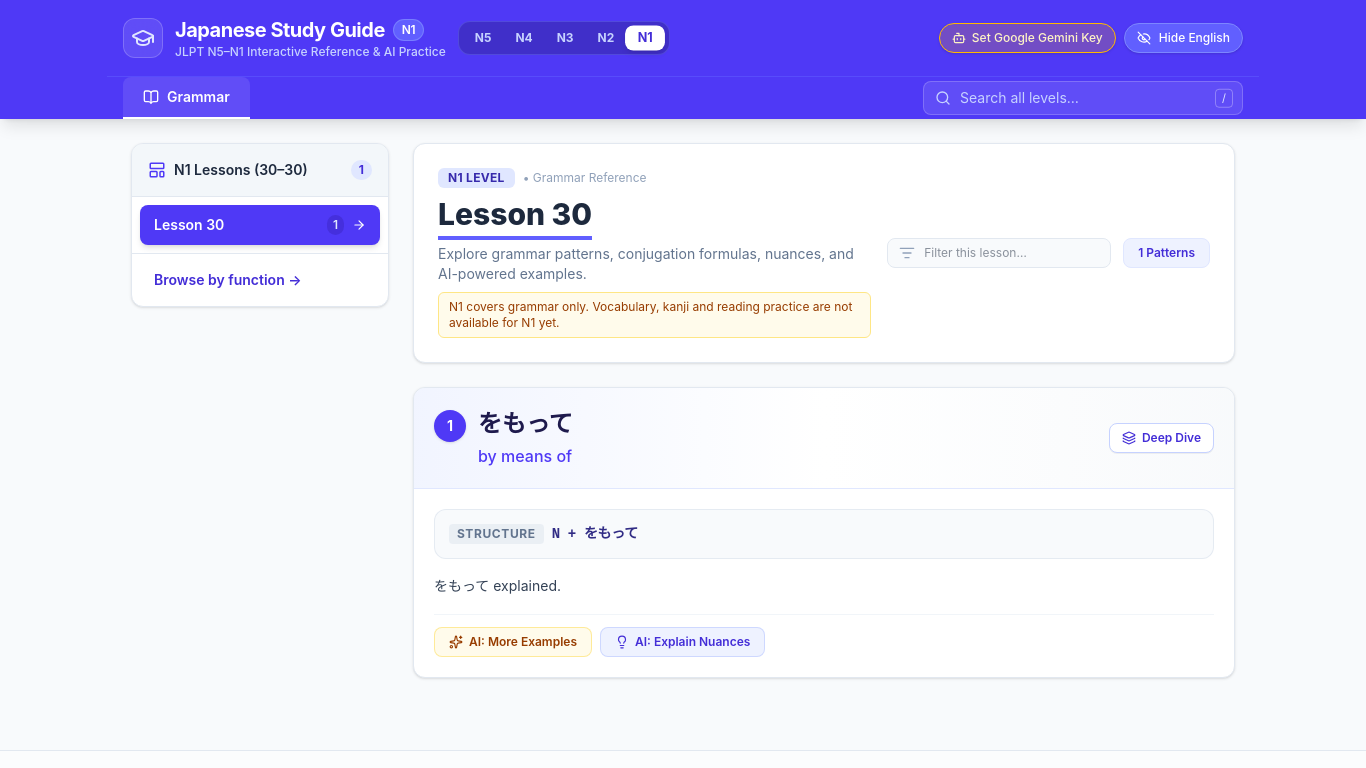
Test: Header level switch › resets an out-of-range lesson to the new level's default, not its maximum (N1 30 → N4 1)
The width and height of the screenshot is (1366, 768).
Expected: the text "をもって" is shown, [478,409,573,438]
Step 1. Click the button "N4" → (524, 38), box [503,26,545,50]
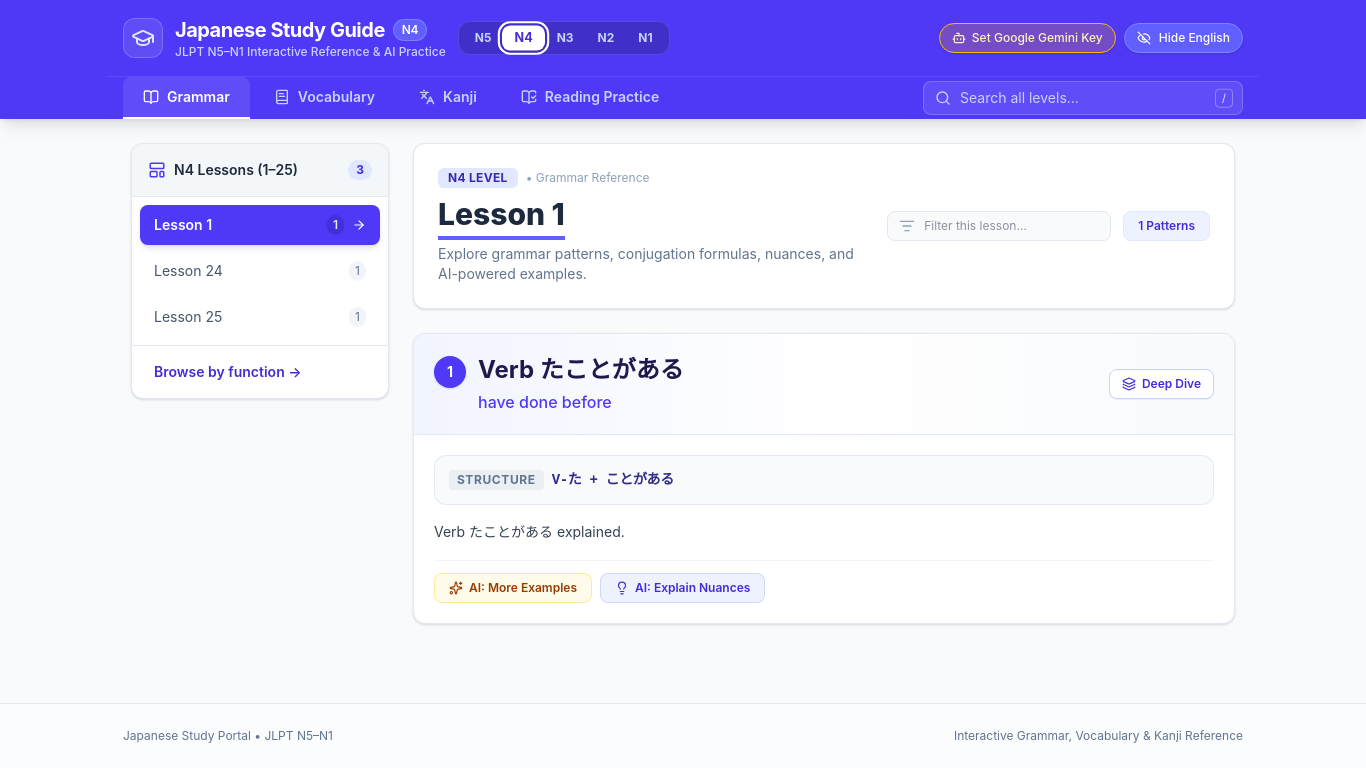
Expected: the text "Verb たことがある" is shown, [478,355,684,384]
